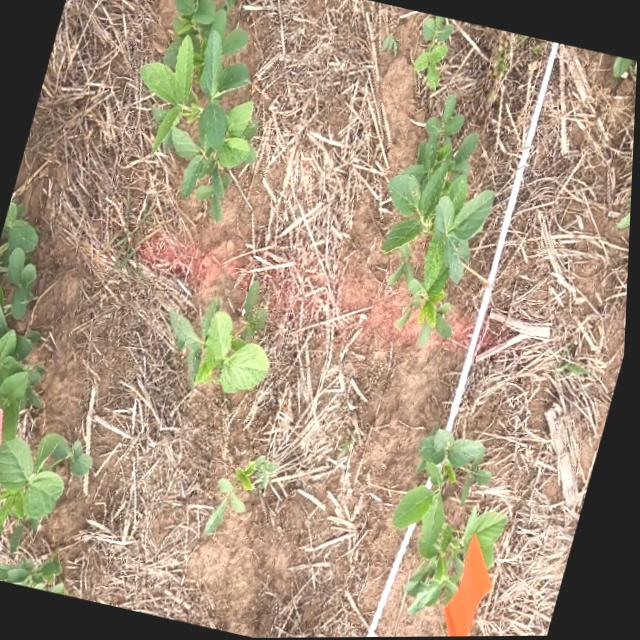grassy_weed: (489, 31, 542, 102), (559, 361, 593, 377), (567, 349, 573, 359)
soy_plant: (0, 201, 96, 550), (384, 96, 496, 345), (384, 97, 496, 344), (140, 0, 258, 217), (397, 430, 511, 612), (173, 284, 271, 393), (208, 457, 281, 534), (414, 16, 452, 89), (0, 559, 69, 594)
